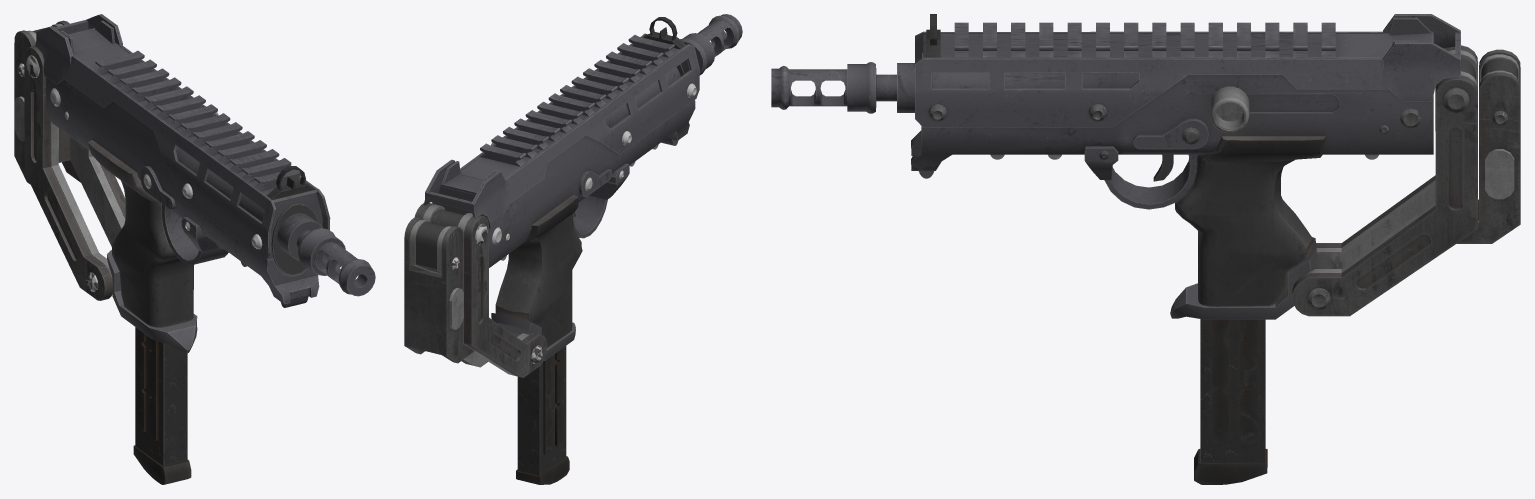
File: smg.glb
3 renders of one model, left to right at view 1: azimuth 30°, elevation 25°; view 2: azimuth 150°, elevation 25°; view 3: azimuth 270°, elevation 25°, orthographic. The views are drawn at different scales.
Visible parts, largest first — view 1: Box010, Box004, Box002, Cylinder004, Box001, Cylinder017, Cylinder006, Box009, Cylinder015, Box003, Cylinder007, Cylinder023 (+7 smaller); view 2: Box010, Box004, Box002, Cylinder007, Cylinder004, Box001, Cylinder017, Box009, Cylinder015, Cylinder009, Cylinder023, Box003 (+7 smaller); view 3: Box010, Box004, Box002, Cylinder004, Cylinder017, Box001, Cylinder007, Box009, Cylinder016, Cylinder006, Box003, Cylinder023 (+6 smaller).
Boxes of the visible parts, x1,y1,x2,y2 form: Box010: (66, 42, 330, 259); Box004: (45, 20, 319, 307); Box002: (87, 140, 193, 327); Cylinder004: (24, 46, 125, 300); Box001: (133, 327, 191, 484); Cylinder017: (176, 146, 375, 296); Cylinder006: (51, 121, 125, 278); Box009: (35, 14, 122, 84); Cylinder015: (136, 328, 158, 443); Box003: (107, 250, 197, 353); Cylinder007: (14, 20, 80, 184); Cylinder023: (162, 204, 228, 265); Box010: (459, 17, 699, 203); Box004: (435, 100, 695, 267); Box002: (495, 194, 582, 347); Cylinder007: (404, 217, 474, 363); Cylinder004: (414, 203, 546, 377); Box001: (516, 346, 569, 484); Cylinder017: (604, 14, 742, 127); Box009: (423, 159, 509, 228); Cylinder015: (543, 347, 563, 455); Cylinder009: (410, 219, 451, 273); Cylinder023: (573, 195, 607, 238); Box003: (491, 313, 575, 360); Box010: (915, 14, 1392, 127); Box004: (911, 17, 1433, 178); Box002: (1175, 136, 1325, 306); Cylinder004: (1292, 45, 1477, 316); Cylinder017: (771, 62, 1139, 113); Box001: (1194, 319, 1267, 484); Cylinder007: (1456, 49, 1520, 243); Box009: (1383, 14, 1460, 101); Cylinder016: (1212, 319, 1257, 443); Cylinder006: (1307, 50, 1477, 273); Box003: (1170, 237, 1316, 319); Cylinder023: (1104, 154, 1197, 209).
Size of the model in its own units: 5.65 by 24.43 by 35.93.
3 materials, 3 textured.
